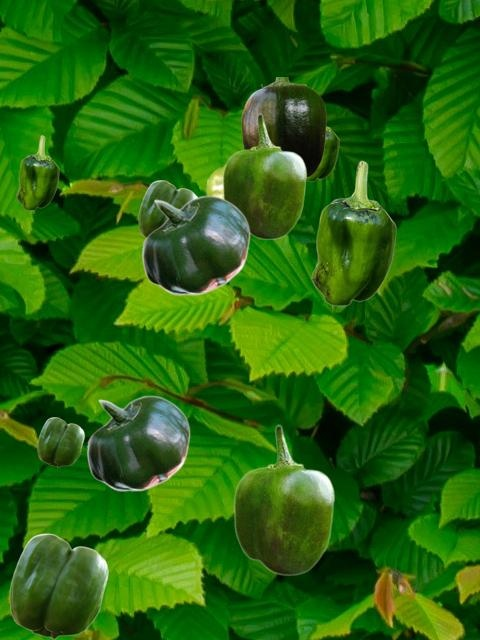bell_pepper: (233, 424, 334, 575), (311, 160, 395, 305), (141, 195, 249, 294), (222, 113, 306, 239), (9, 533, 107, 638), (86, 395, 189, 490), (241, 77, 325, 177), (138, 180, 197, 237), (16, 135, 58, 209), (37, 417, 83, 466), (307, 126, 338, 180), (206, 165, 224, 196)
